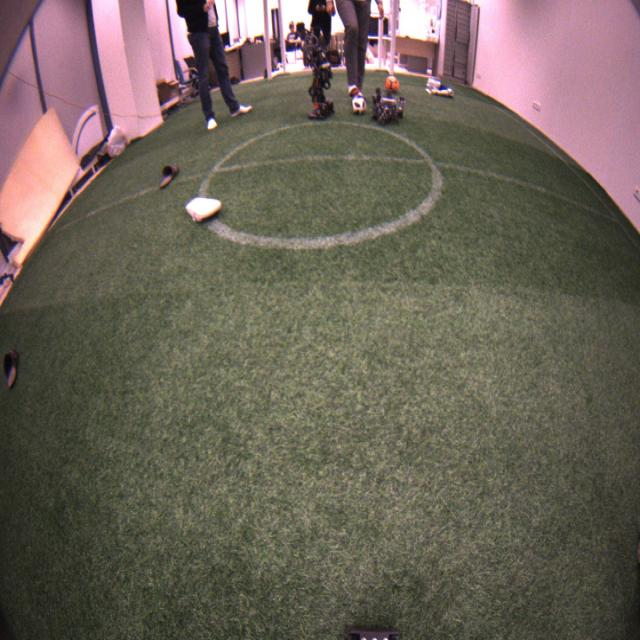ball: (385, 74, 400, 95), (352, 96, 367, 116)
goalpost: (388, 3, 399, 77), (262, 3, 272, 79)
